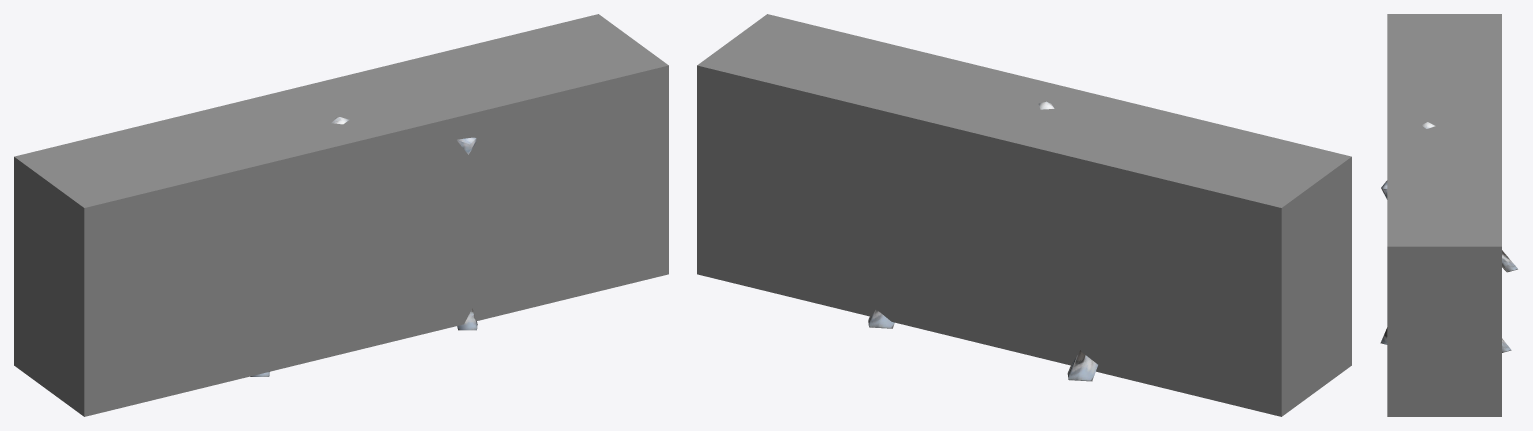
The model's file is Scene_Object_TianShan_ZhaLan_02.FBX.
3 views of the same model, side by side, from view 1: azimuth 30°, elevation 25°; view 2: azimuth 150°, elevation 25°; view 3: azimuth 270°, elevation 25° (orthographic). The views are drawn at different scales.
Parts seen in each view (by area): view 1: Scene_Object_TianShan_ZhaLan_02_Xzm, Scene_Object_TianShan_ZhaLan_02; view 2: Scene_Object_TianShan_ZhaLan_02_Xzm, Scene_Object_TianShan_ZhaLan_02; view 3: Scene_Object_TianShan_ZhaLan_02_Xzm, Scene_Object_TianShan_ZhaLan_02.
Part boxes in pixels (<box>): Scene_Object_TianShan_ZhaLan_02_Xzm: <box>14,14,668,416</box>; Scene_Object_TianShan_ZhaLan_02: <box>250,117,477,376</box>; Scene_Object_TianShan_ZhaLan_02_Xzm: <box>697,14,1351,416</box>; Scene_Object_TianShan_ZhaLan_02: <box>868,101,1097,381</box>; Scene_Object_TianShan_ZhaLan_02_Xzm: <box>1387,14,1501,416</box>; Scene_Object_TianShan_ZhaLan_02: <box>1380,122,1517,352</box>.
Size of the model in its own units: 546 by 195 by 137.
